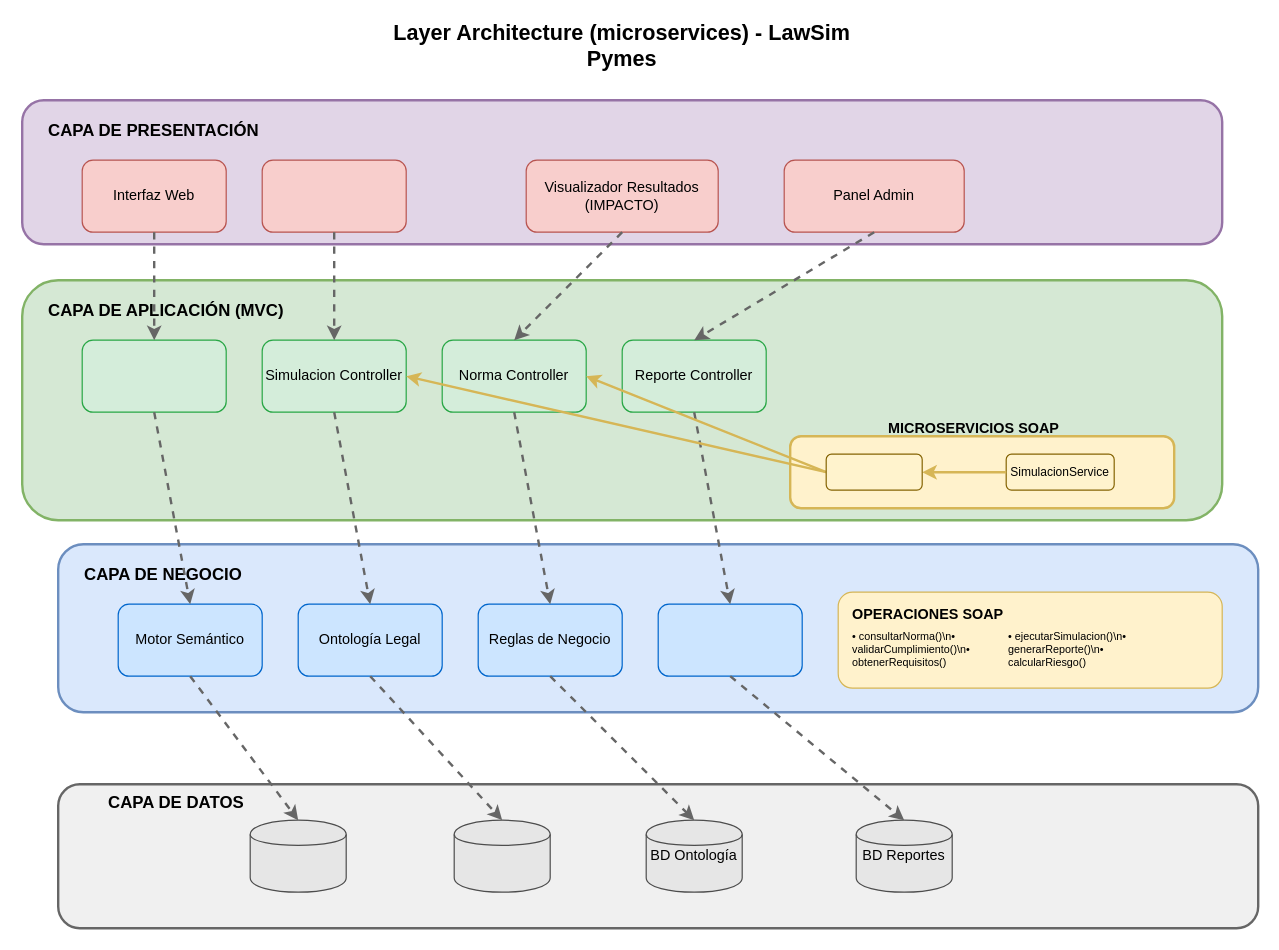
Some shapes in this 1279 by 950 pixel diagram are drawn without their labels. The shapes that lost their labels are listed below. From the top down, each one's centre as x and y in pixels, then its label:
At (333,195): "Formularios PyME".
At (153,375): "PyME Controller".
At (873,471): "NormaService".
At (729,639): "Validador Cumplimiento".
At (297,855): "BD PyMEs".
At (501,855): "BD Normas Legales".
